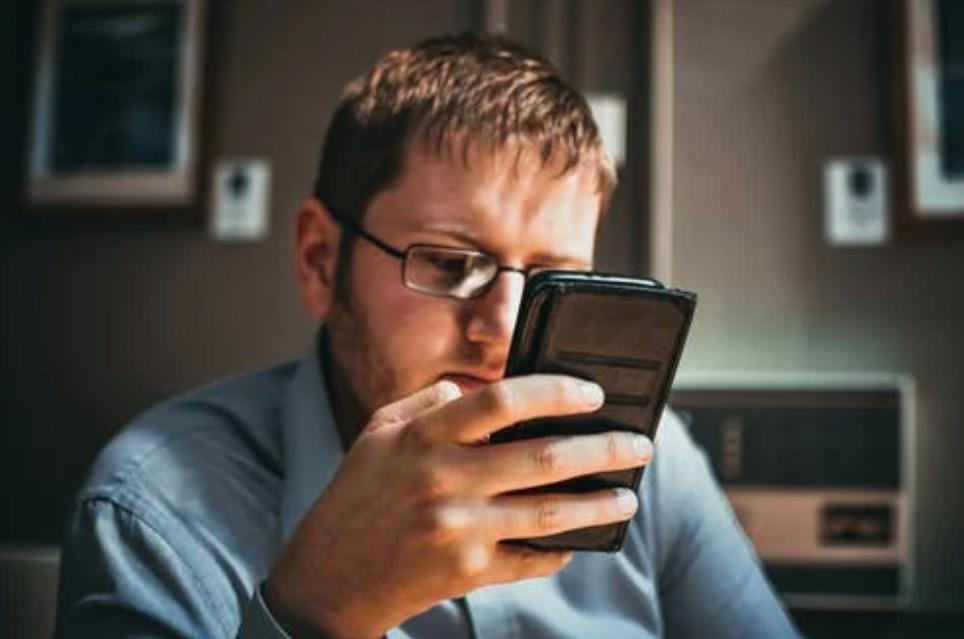mobile: (490, 272, 670, 554)
